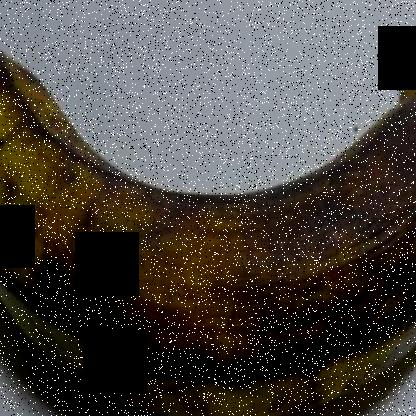overripe: (1, 39, 416, 415)
